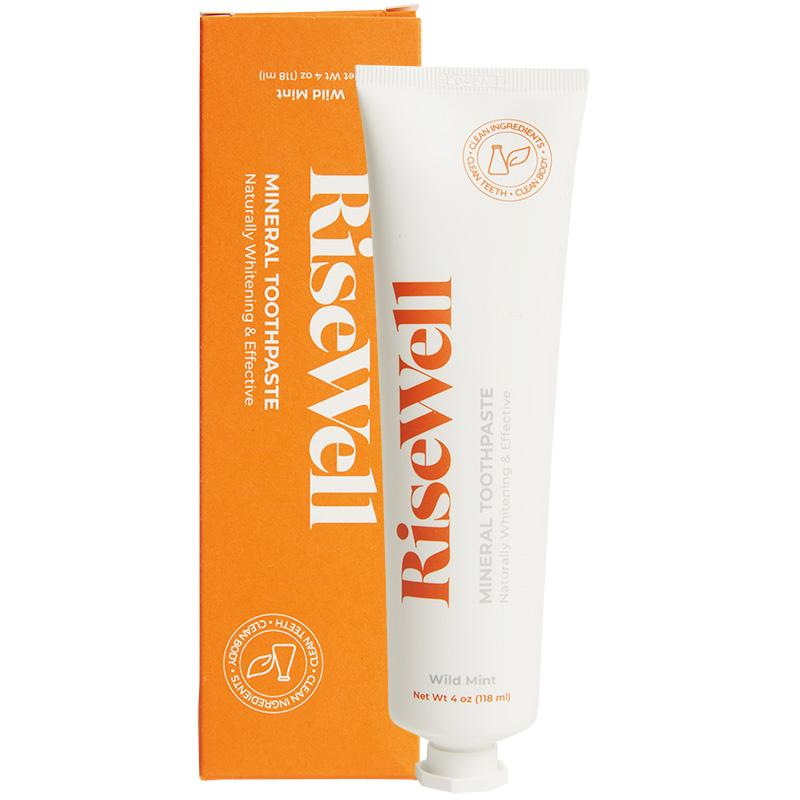toothpaste: (355, 48, 611, 800)
